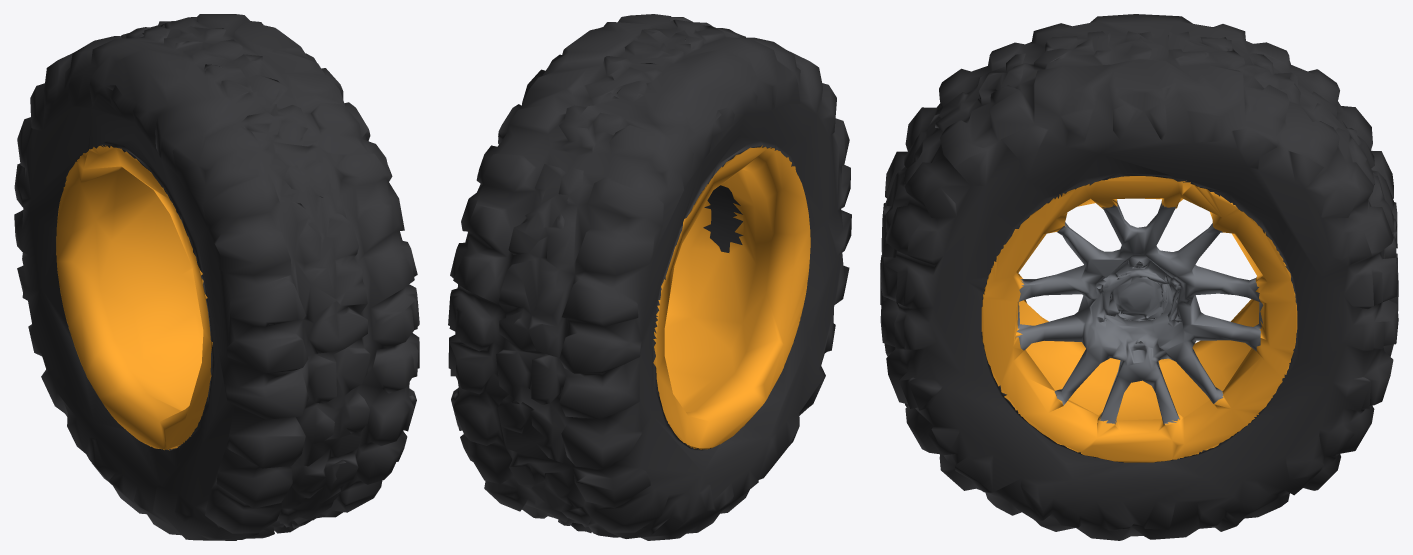
File: volt_wheel.glb
3 renders of one model, left to right at view 1: azimuth 30°, elevation 25°; view 2: azimuth 150°, elevation 25°; view 3: azimuth 270°, elevation 25°, orthographic. The views are drawn at different scales.
Parts seen in each view (by area): view 1: wheel; view 2: wheel; view 3: wheel.
Part boxes in pixels (left/top/right/bottom): wheel: left=14, top=14, right=419, bottom=540; wheel: left=448, top=14, right=851, bottom=540; wheel: left=880, top=14, right=1398, bottom=540.
Bounding box in the file's own units: 0.3253 × 0.7651 × 0.766.
